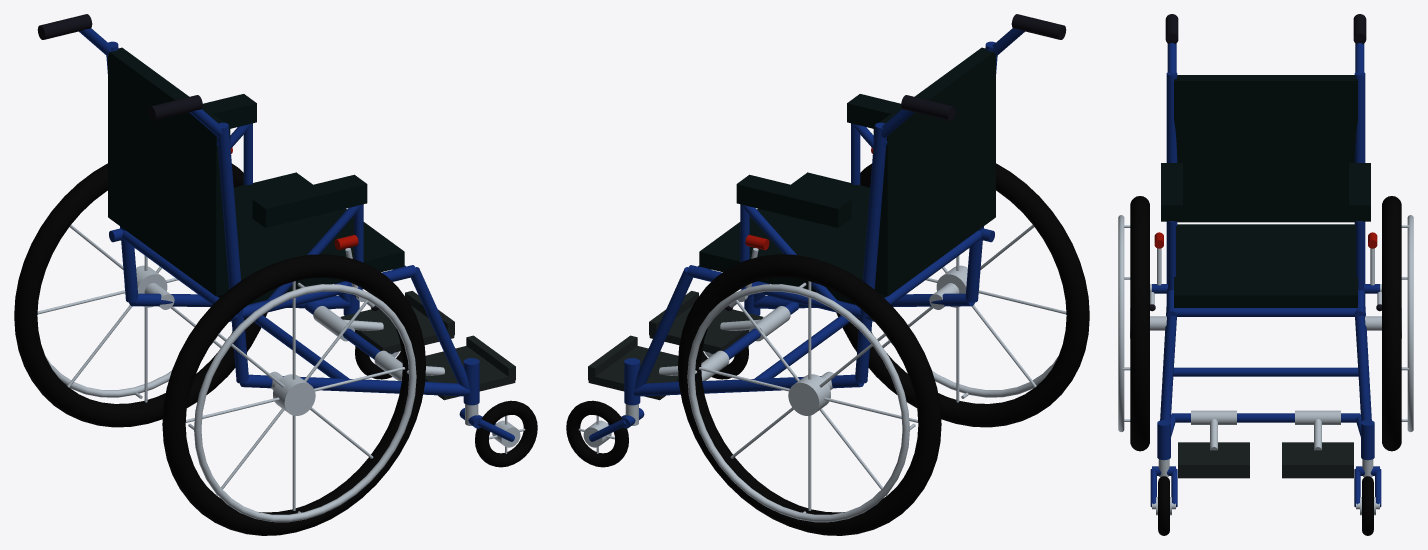
The picture shows the model from 3 angles, left to right: view 1: azimuth 30°, elevation 25°; view 2: azimuth 150°, elevation 25°; view 3: azimuth 270°, elevation 25°; orthographic projection. The views are drawn at different scales.
Visible parts, largest first — view 1: /Asset/Links/frame/Visuals/backrest/Geom, /Asset/Links/right_drive_wheel/Visuals/tire/Geom/mesh, /Asset/Links/left_drive_wheel/Visuals/tire/Geom/mesh, /Asset/Links/frame/Visuals/seat_cushion/Geom, /Asset/Links/right_drive_wheel/Visuals/push_rim/Geom/mesh, /Asset/Links/frame/Visuals/right_armrest_pad/Geom, /Asset/Links/frame/Visuals/right_back_post/Geom, /Asset/Links/right_caster_wheel/Visuals/caster_tire/Geom/mes, /Asset/Links/frame/Visuals/right_lower_rail/Geom, /Asset/Links/left_footrest/Visuals/footplate/Geom, /Asset/Links/right_footrest/Visuals/footplate/Geom, /Asset/Links/frame/Visuals/right_front_drop/Geom (+14 smaller); view 2: /Asset/Links/frame/Visuals/backrest/Geom, /Asset/Links/left_drive_wheel/Visuals/tire/Geom/mesh, /Asset/Links/right_drive_wheel/Visuals/tire/Geom/mesh, /Asset/Links/frame/Visuals/seat_cushion/Geom, /Asset/Links/left_drive_wheel/Visuals/push_rim/Geom/mesh, /Asset/Links/frame/Visuals/left_armrest_pad/Geom, /Asset/Links/frame/Visuals/left_back_post/Geom, /Asset/Links/left_caster_wheel/Visuals/caster_tire/Geom/mesh, /Asset/Links/frame/Visuals/left_lower_rail/Geom, /Asset/Links/right_footrest/Visuals/footplate/Geom, /Asset/Links/left_footrest/Visuals/footplate/Geom, /Asset/Links/frame/Visuals/left_front_drop/Geom (+14 smaller); view 3: /Asset/Links/frame/Visuals/backrest/Geom, /Asset/Links/frame/Visuals/seat_cushion/Geom, /Asset/Links/left_drive_wheel/Visuals/tire/Geom/mesh, /Asset/Links/right_drive_wheel/Visuals/tire/Geom/mesh, /Asset/Links/frame/Visuals/lower_crossbar/Geom, /Asset/Links/frame/Visuals/front_seat_crossbar/Geom, /Asset/Links/left_footrest/Visuals/footplate/Geom, /Asset/Links/right_footrest/Visuals/footplate/Geom, /Asset/Links/left_drive_wheel/Visuals/push_rim/Geom/mesh, /Asset/Links/right_drive_wheel/Visuals/push_rim/Geom/mesh, /Asset/Links/frame/Visuals/left_armrest_pad/Geom, /Asset/Links/frame/Visuals/right_armrest_pad/Geom (+17 smaller).
Boxes of the visible parts, box(x1,y1,x2,y2) form: /Asset/Links/frame/Visuals/backrest/Geom: box(108, 47, 230, 296); /Asset/Links/right_drive_wheel/Visuals/tire/Geom/mesh: box(162, 254, 425, 535); /Asset/Links/left_drive_wheel/Visuals/tire/Geom/mesh: box(14, 163, 267, 427); /Asset/Links/frame/Visuals/seat_cushion/Geom: box(217, 172, 404, 304); /Asset/Links/right_drive_wheel/Visuals/push_rim/Geom/mesh: box(194, 284, 416, 522); /Asset/Links/frame/Visuals/right_armrest_pad/Geom: box(252, 174, 367, 227); /Asset/Links/frame/Visuals/right_back_post/Geom: box(217, 122, 248, 383); /Asset/Links/right_caster_wheel/Visuals/caster_tire/Geom/mes: box(475, 400, 537, 467); /Asset/Links/frame/Visuals/right_lower_rail/Geom: box(240, 374, 470, 396); /Asset/Links/left_footrest/Visuals/footplate/Geom: box(340, 305, 454, 353); /Asset/Links/right_footrest/Visuals/footplate/Geom: box(401, 346, 515, 400); /Asset/Links/frame/Visuals/right_front_drop/Geom: box(411, 267, 469, 389); /Asset/Links/frame/Visuals/backrest/Geom: box(873, 47, 995, 296); /Asset/Links/left_drive_wheel/Visuals/tire/Geom/mesh: box(678, 254, 941, 535); /Asset/Links/right_drive_wheel/Visuals/tire/Geom/mesh: box(836, 163, 1089, 427); /Asset/Links/frame/Visuals/seat_cushion/Geom: box(699, 172, 886, 304); /Asset/Links/left_drive_wheel/Visuals/push_rim/Geom/mesh: box(687, 284, 909, 522); /Asset/Links/frame/Visuals/left_armrest_pad/Geom: box(736, 174, 851, 227); /Asset/Links/frame/Visuals/left_back_post/Geom: box(855, 122, 886, 383); /Asset/Links/left_caster_wheel/Visuals/caster_tire/Geom/mesh: box(566, 400, 628, 467); /Asset/Links/frame/Visuals/left_lower_rail/Geom: box(633, 374, 863, 396); /Asset/Links/right_footrest/Visuals/footplate/Geom: box(649, 305, 763, 353); /Asset/Links/left_footrest/Visuals/footplate/Geom: box(588, 346, 702, 400); /Asset/Links/frame/Visuals/left_front_drop/Geom: box(634, 267, 692, 389); /Asset/Links/frame/Visuals/backrest/Geom: box(1174, 75, 1357, 222); /Asset/Links/frame/Visuals/seat_cushion/Geom: box(1174, 224, 1357, 307); /Asset/Links/left_drive_wheel/Visuals/tire/Geom/mesh: box(1382, 196, 1401, 451); /Asset/Links/right_drive_wheel/Visuals/tire/Geom/mesh: box(1130, 196, 1149, 451); /Asset/Links/frame/Visuals/lower_crossbar/Geom: box(1173, 367, 1358, 376); /Asset/Links/frame/Visuals/front_seat_crossbar/Geom: box(1174, 308, 1357, 316); /Asset/Links/left_footrest/Visuals/footplate/Geom: box(1282, 442, 1353, 478); /Asset/Links/right_footrest/Visuals/footplate/Geom: box(1178, 442, 1249, 478); /Asset/Links/left_drive_wheel/Visuals/push_rim/Geom/mesh: box(1407, 215, 1413, 432); /Asset/Links/right_drive_wheel/Visuals/push_rim/Geom/mesh: box(1118, 215, 1124, 432); /Asset/Links/frame/Visuals/left_armrest_pad/Geom: box(1349, 163, 1370, 221); /Asset/Links/frame/Visuals/right_armrest_pad/Geom: box(1161, 163, 1182, 221).
Size of the model in its own units: 0.95 by 1.03 by 0.7396.
